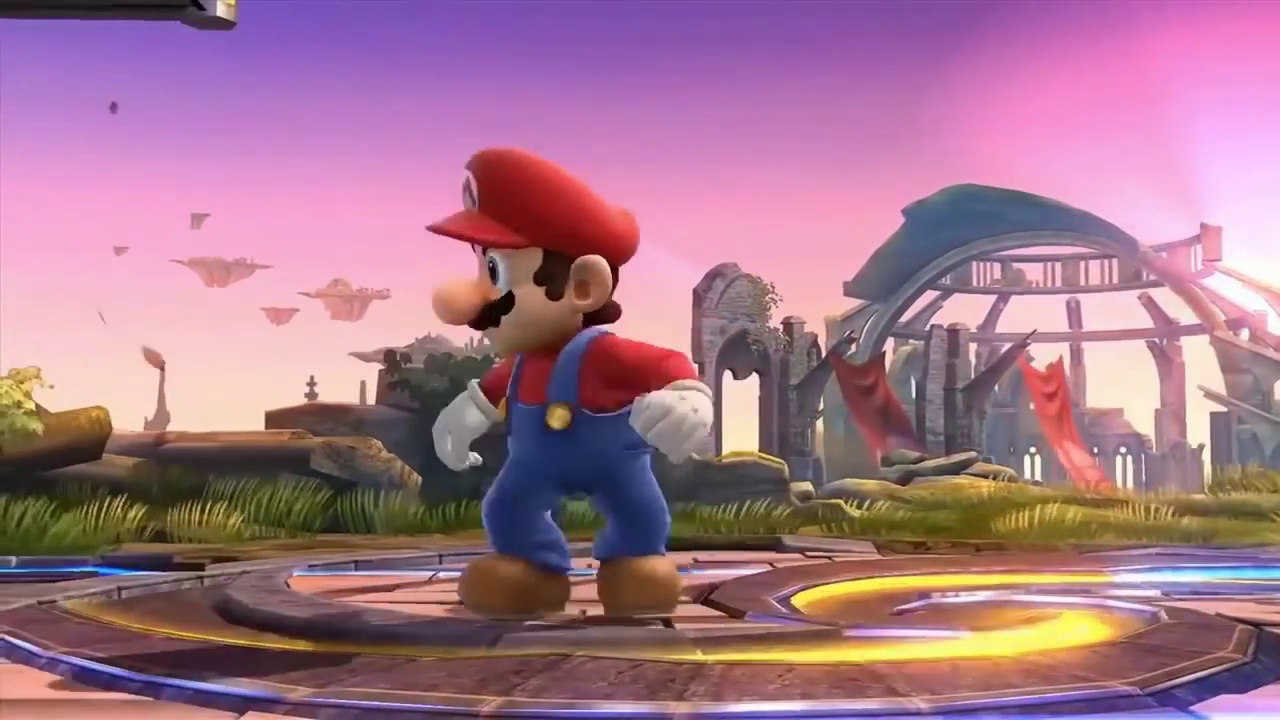Mario: (428, 145, 720, 621)
